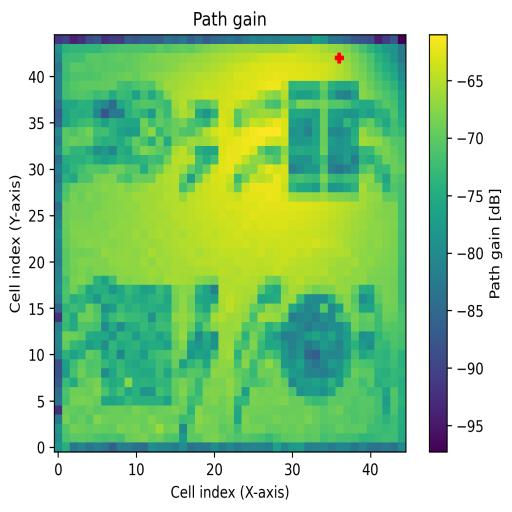Concrete: (290, 80, 358, 201)
Glass: (93, 82, 173, 184)
Metal: (280, 284, 350, 396)
Wood: (101, 284, 173, 406)
